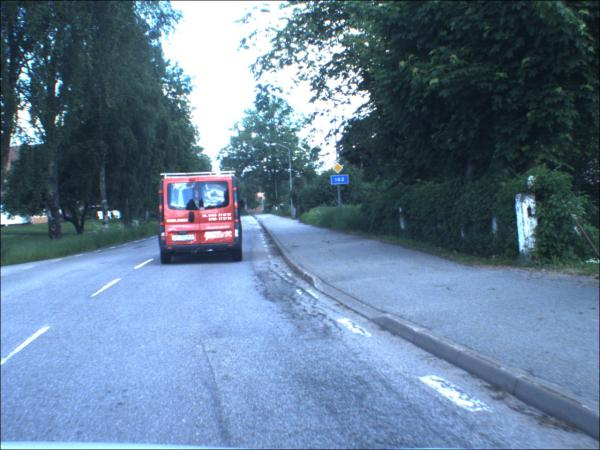PRIORITY_ROAD: (334, 164, 345, 175)
